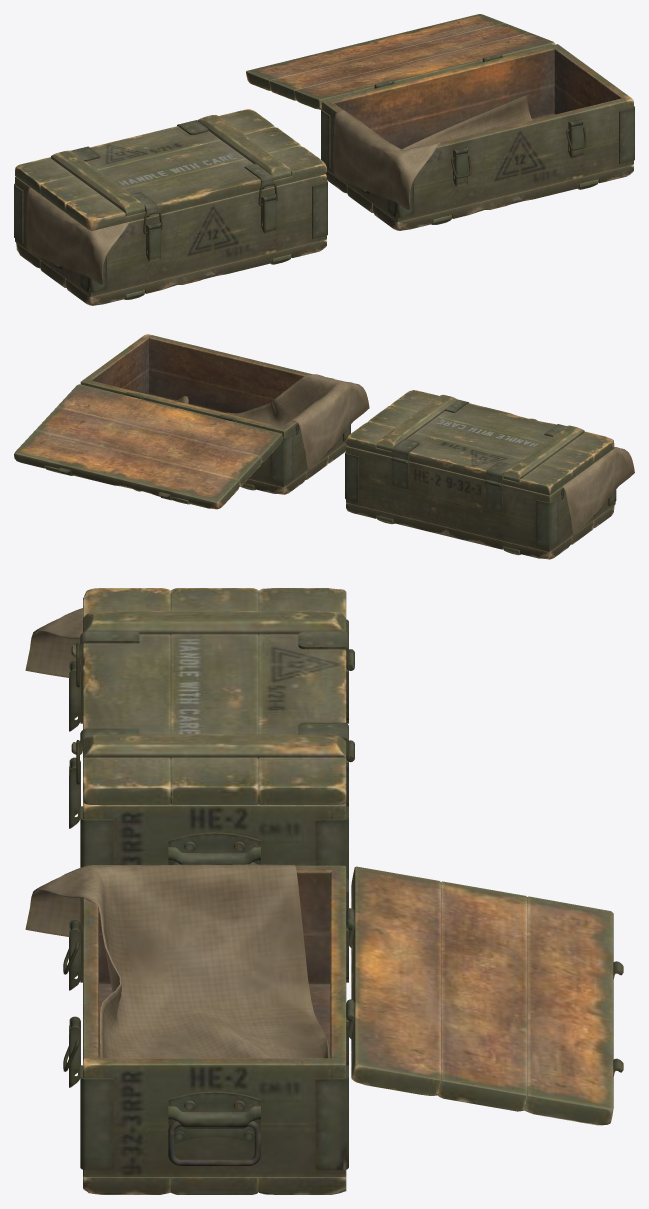
File: crate.glb
3 renders of one model, top to bottom at view 1: azimuth 30°, elevation 25°; view 2: azimuth 150°, elevation 25°; view 3: azimuth 270°, elevation 25°, orthographic. The views are drawn at different scales.
Visible parts, largest first — view 1: old_military_crate_b, old_military_crate_lid_a, old_military_crate_a, old_military_crate_lid_b, old_military_crate_cloth_b, old_military_crate_cloth_a, old_military_crate_latch_a, old_military_crate_latch_b; view 2: old_military_crate_lid_b, old_military_crate_lid_a, old_military_crate_a, old_military_crate_b, old_military_crate_cloth_b, old_military_crate_cloth_a; view 3: old_military_crate_lid_a, old_military_crate_lid_b, old_military_crate_b, old_military_crate_cloth_b, old_military_crate_a, old_military_crate_cloth_a, old_military_crate_latch_b, old_military_crate_latch_a.
Boxes of the visible parts, x1,y1,x2,y2 form: old_military_crate_b: (321, 44, 634, 230); old_military_crate_lid_a: (15, 109, 326, 230); old_military_crate_a: (14, 174, 327, 305); old_military_crate_lid_b: (246, 14, 555, 109); old_military_crate_cloth_b: (333, 95, 532, 209); old_military_crate_cloth_a: (26, 187, 129, 284); old_military_crate_latch_a: (146, 194, 276, 261); old_military_crate_latch_b: (453, 119, 583, 186); old_military_crate_lid_b: (14, 384, 282, 509); old_military_crate_lid_a: (346, 390, 614, 495); old_military_crate_a: (345, 446, 616, 559); old_military_crate_b: (80, 334, 350, 494); old_military_crate_cloth_b: (174, 374, 369, 470); old_military_crate_cloth_a: (562, 447, 634, 535); old_military_crate_lid_a: (71, 588, 354, 804); old_military_crate_lid_b: (346, 866, 623, 1125); old_military_crate_b: (80, 865, 354, 1194); old_military_crate_cloth_b: (25, 864, 329, 1058); old_military_crate_a: (80, 619, 354, 879); old_military_crate_cloth_a: (25, 608, 82, 677); old_military_crate_latch_b: (69, 919, 80, 1087); old_military_crate_latch_a: (69, 660, 80, 828).
Bounding box in the file's own units: 1.82 × 0.3009 × 0.9757.
1 material, 1 textured.
